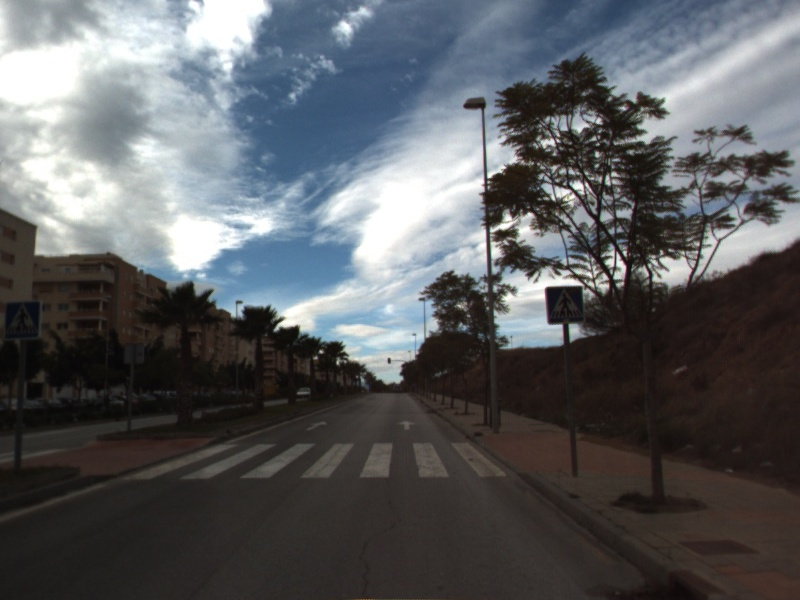STRAIGHT: (304, 418, 330, 432), (396, 418, 418, 432)
